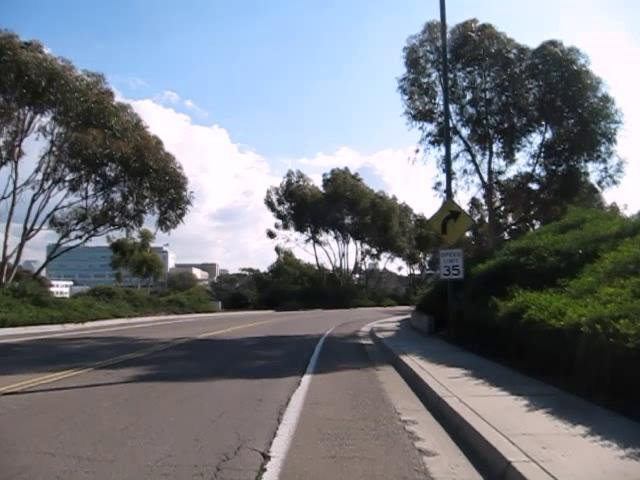speedLimit35: (438, 248, 464, 279)
